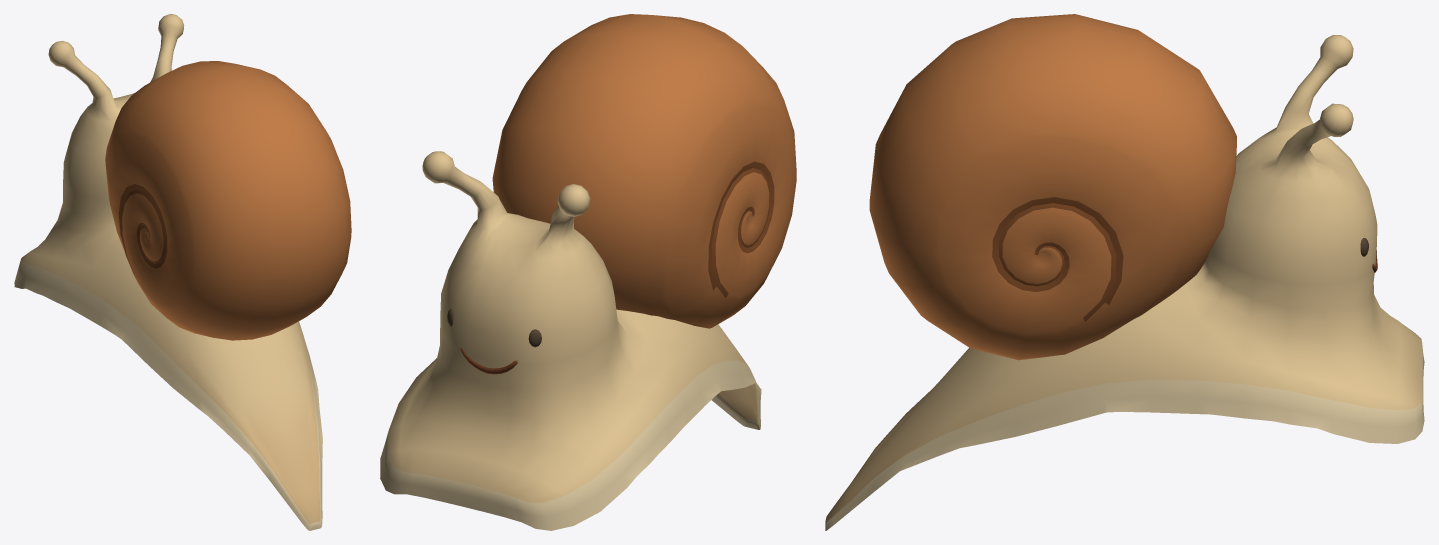
File: Cosmetic_Snail_Passenger.glb
The picture shows the model from 3 angles, left to right: view 1: azimuth 30°, elevation 25°; view 2: azimuth 150°, elevation 25°; view 3: azimuth 270°, elevation 25°; orthographic projection. The views are drawn at different scales.
Visible parts, largest first — view 1: Cosmetic_Snail_Passenger; view 2: Cosmetic_Snail_Passenger; view 3: Cosmetic_Snail_Passenger.
Part boxes in pixels (box(x1,y1,x2,y2)): Cosmetic_Snail_Passenger: box(14, 14, 351, 530); Cosmetic_Snail_Passenger: box(380, 14, 796, 530); Cosmetic_Snail_Passenger: box(825, 14, 1424, 530).
Size of the model in its own units: 0.3566 by 0.6709 by 0.7296.
